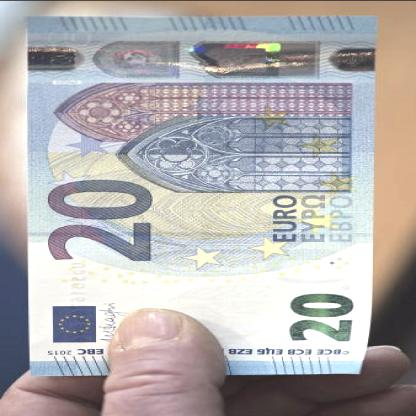euro_banknote: (23, 21, 384, 372)
